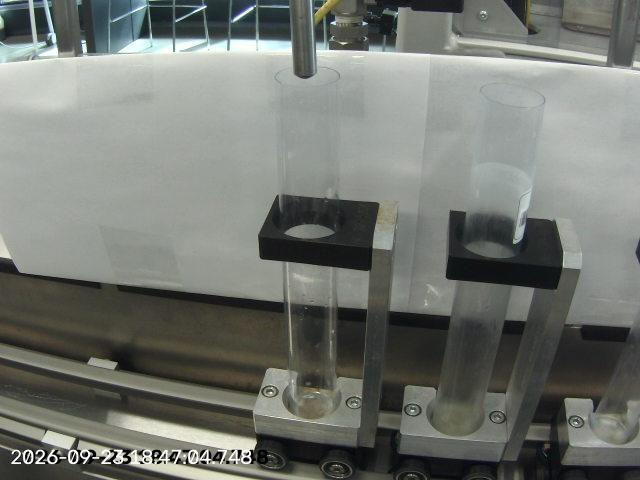vial: (408, 67, 562, 450), (257, 69, 361, 422)
